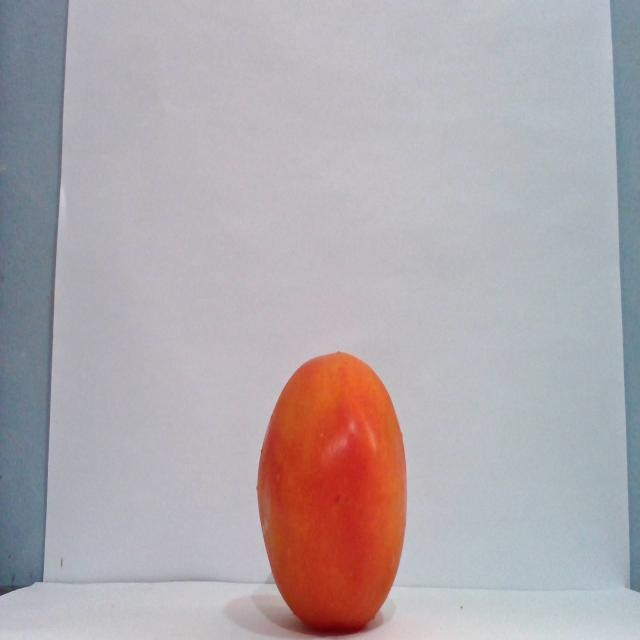Red: (255, 349, 408, 632)
